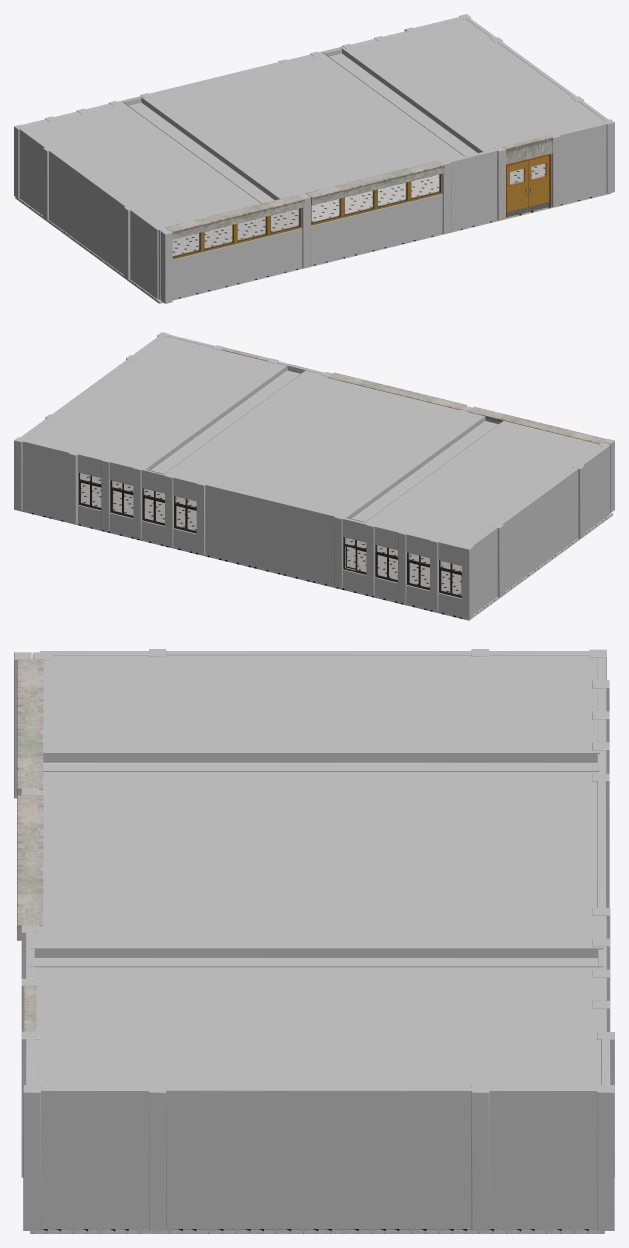
3 renders of one model, top to bottom at view 1: azimuth 30°, elevation 25°; view 2: azimuth 150°, elevation 25°; view 3: azimuth 270°, elevation 25°, orthographic. The views are drawn at different scales.
Parts seen in each view (by area): view 1: roof_2, floor, wall_2, zirpanjereh_1, roof_1, zirpanjereh, nime_1, nime, nime_5, bala_panjereh_1, bala_panjereh, glass (+17 smaller); view 2: roof_2, wall, floor, wall_2, roof_1, nime_6, zirpanjereh_3, zirpanjereh_4, nime_5, zirpanjereh_2, zirpanjereh_5, nime_4 (+15 smaller); view 3: roof_2, wall_1, roof_1, nime_3, nime_2, bala_panjereh_1, bala_panjereh, floor, sotoon_8, sotoon_7, sotoon_6, sotoon_5 (+4 smaller).
Part boxes in pixels (x1,y1,x2,y2): roof_2: [24, 18, 604, 230]; floor: [15, 163, 611, 303]; wall_2: [49, 150, 128, 274]; zirpanjereh_1: [311, 194, 442, 265]; roof_1: [122, 47, 483, 203]; zirpanjereh: [172, 228, 302, 298]; nime_1: [558, 122, 606, 204]; nime: [448, 149, 497, 231]; nime_5: [130, 209, 159, 299]; bala_panjereh_1: [305, 160, 444, 205]; bala_panjereh: [165, 195, 304, 239]; glass: [312, 175, 439, 221]; roof_2: [24, 336, 602, 546]; wall: [205, 483, 336, 585]; floor: [22, 473, 612, 620]; wall_2: [499, 468, 578, 591]; roof_1: [145, 365, 503, 522]; nime_6: [22, 440, 71, 521]; zirpanjereh_3: [78, 453, 198, 501]; zirpanjereh_4: [342, 517, 463, 565]; nime_5: [579, 445, 609, 532]; zirpanjereh_2: [78, 505, 196, 552]; zirpanjereh_5: [342, 569, 461, 616]; nime_4: [468, 527, 497, 613]; roof_2: [32, 653, 601, 1086]; wall_1: [166, 1087, 472, 1229]; roof_1: [29, 753, 603, 967]; nime_3: [489, 1087, 597, 1229]; nime_2: [40, 1087, 149, 1229]; bala_panjereh_1: [17, 795, 43, 940]; bala_panjereh: [17, 659, 43, 795]; floor: [30, 1229, 604, 1233]; sotoon_8: [471, 1085, 489, 1230]; sotoon_7: [597, 1085, 614, 1230]; sotoon_6: [149, 1085, 166, 1230]; sotoon_5: [23, 1085, 40, 1230].
Size of the model in its own units: 23.95 by 3.63 by 13.72.
